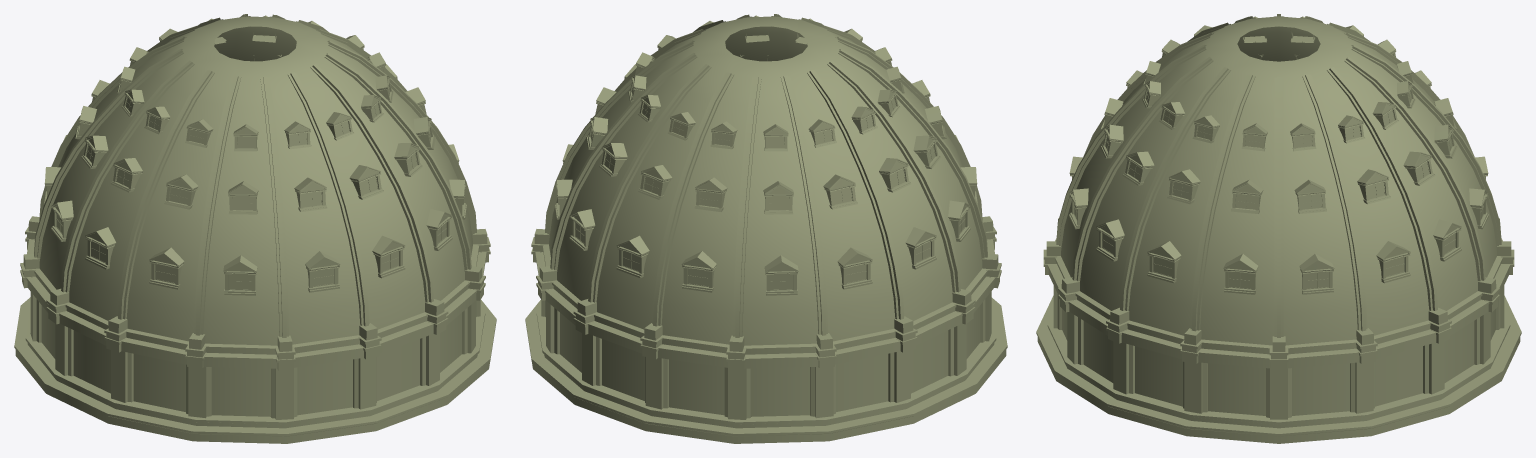
The model's file is SM_ceilingoutsid.fbx.
3 views of the same model, side by side, from view 1: azimuth 30°, elevation 25°; view 2: azimuth 150°, elevation 25°; view 3: azimuth 270°, elevation 25° (orthographic).
Visible parts, largest first — view 1: SM_outsideceilling; view 2: SM_outsideceilling; view 3: SM_outsideceilling.
Boxes of the visible parts, box(x1,y1,x2,y2) form: SM_outsideceilling: box(14, 14, 496, 443); SM_outsideceilling: box(525, 14, 1007, 443); SM_outsideceilling: box(1036, 14, 1521, 443).
Size of the model in its own units: 2939 by 1992 by 2939.
